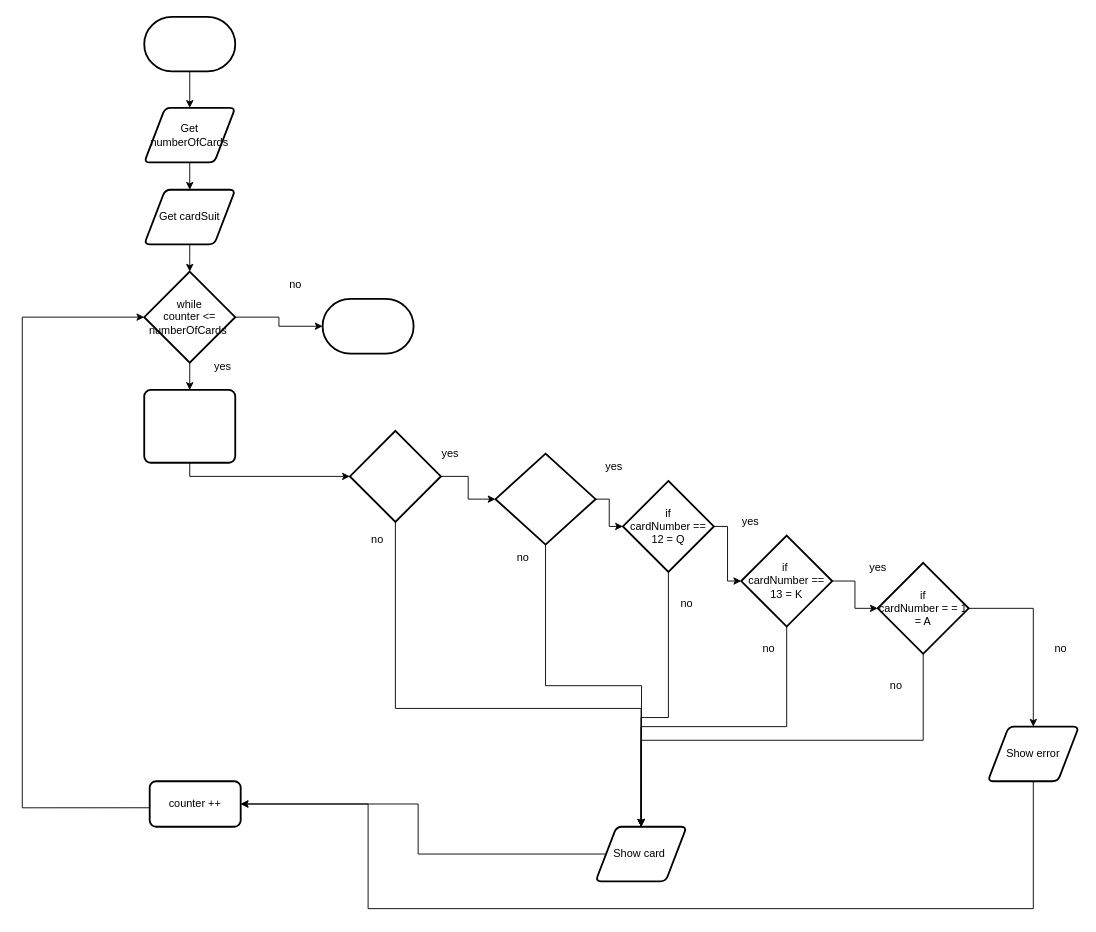
The diagram is 1096 pixels wide and 932 high, and some of its shapes have lost their labels. Each missing label, with the centre of its shape:
"Generate randomNumber" goes at (189,426).
"if cardNumber == 11 = J" goes at (545,498).
"if cardNumber == 11 || 12 || 13 || 1" goes at (395,476).
"Start" goes at (189,43).
"Stop" goes at (367,326).
